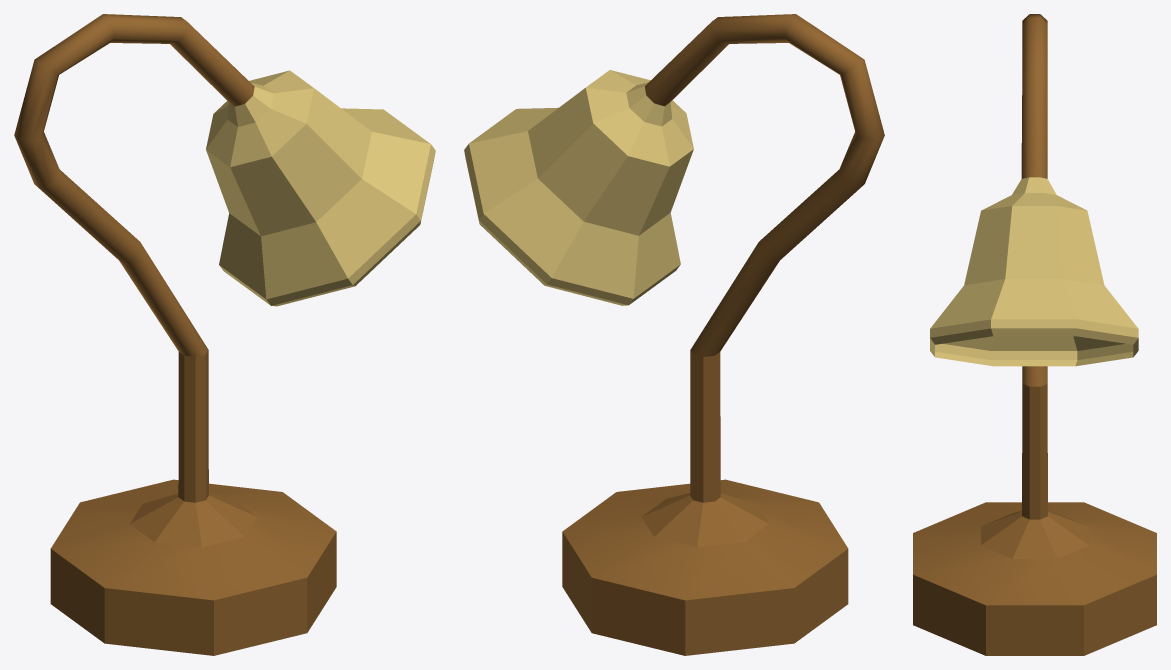
The model's file is Lamp_decorative-Light_02.fbx.
3 renders of one model, left to right at view 1: azimuth 30°, elevation 25°; view 2: azimuth 150°, elevation 25°; view 3: azimuth 270°, elevation 25°, orthographic. The views are drawn at different scales.
Visible parts, largest first — view 1: Lamp_decorative_02; view 2: Lamp_decorative_02; view 3: Lamp_decorative_02.
Part boxes in pixels (<box>): Lamp_decorative_02: <box>14,14,435,655</box>; Lamp_decorative_02: <box>464,14,884,655</box>; Lamp_decorative_02: <box>913,14,1156,655</box>.
Size of the model in its own units: 0.334 by 0.4859 by 0.1963.
